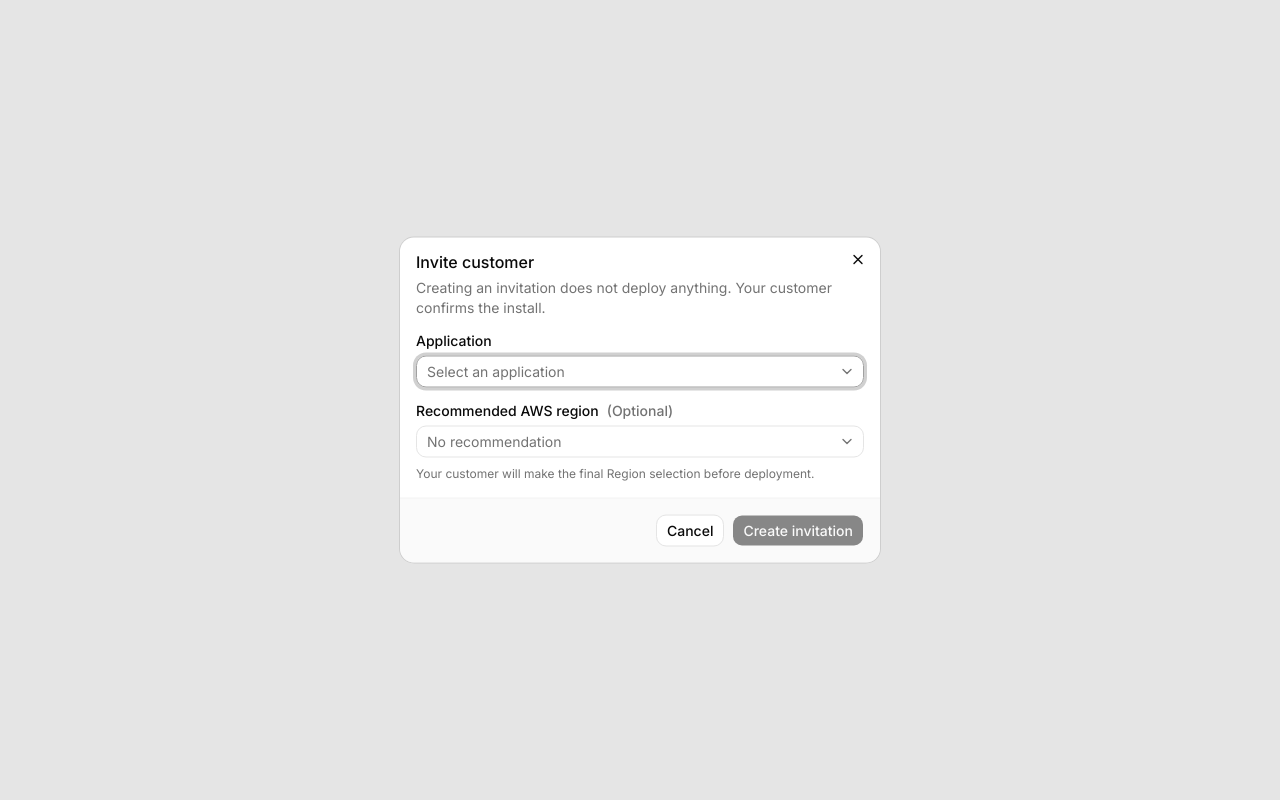
it: InvitationDialog › renders the optional recommendation with its helper copy and disables submit until an application is chosen
Expected: the button "Create invitation" is disabled, [732, 514, 864, 546]
Press the mouse on the dropdown labelled "Select an application" at {"x": 496, "y": 371}, box [416, 356, 864, 388]
Click the dropdown labelled "Select an application". click: {"x": 496, "y": 371}
box: [416, 356, 864, 388]
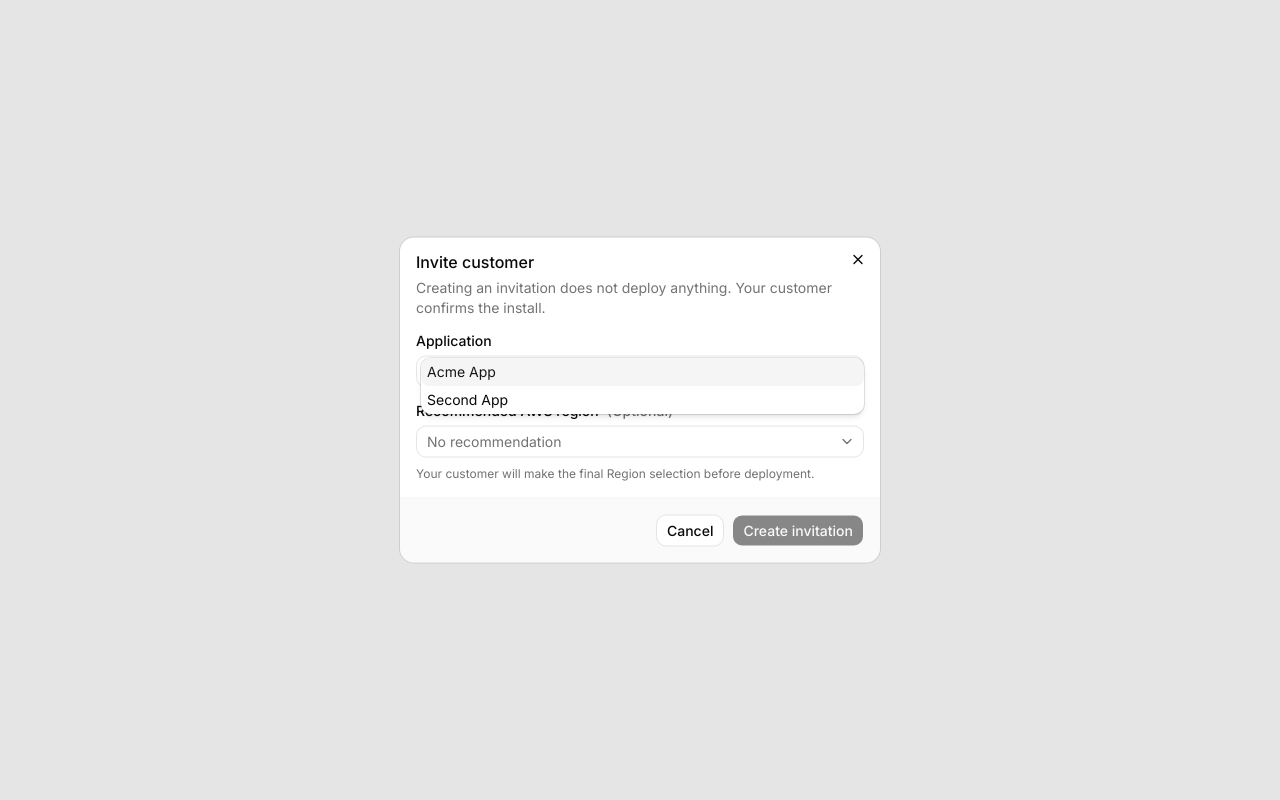
Press the mouse on the option "Acme App" at {"x": 461, "y": 371}, box [421, 358, 864, 386]
Click the option "Acme App". click: {"x": 461, "y": 371}
box: [421, 358, 864, 386]
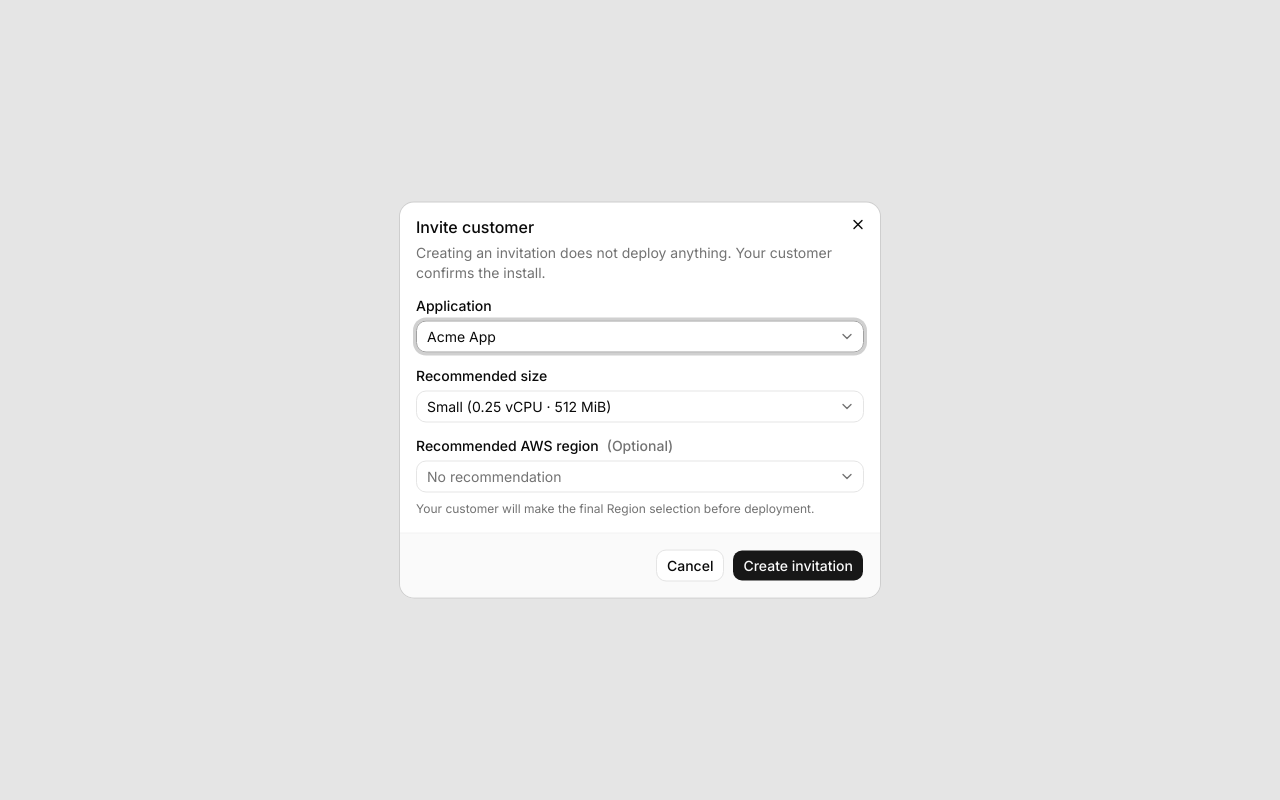
Expected: the button "Create invitation" is enabled, [732, 550, 864, 582]
